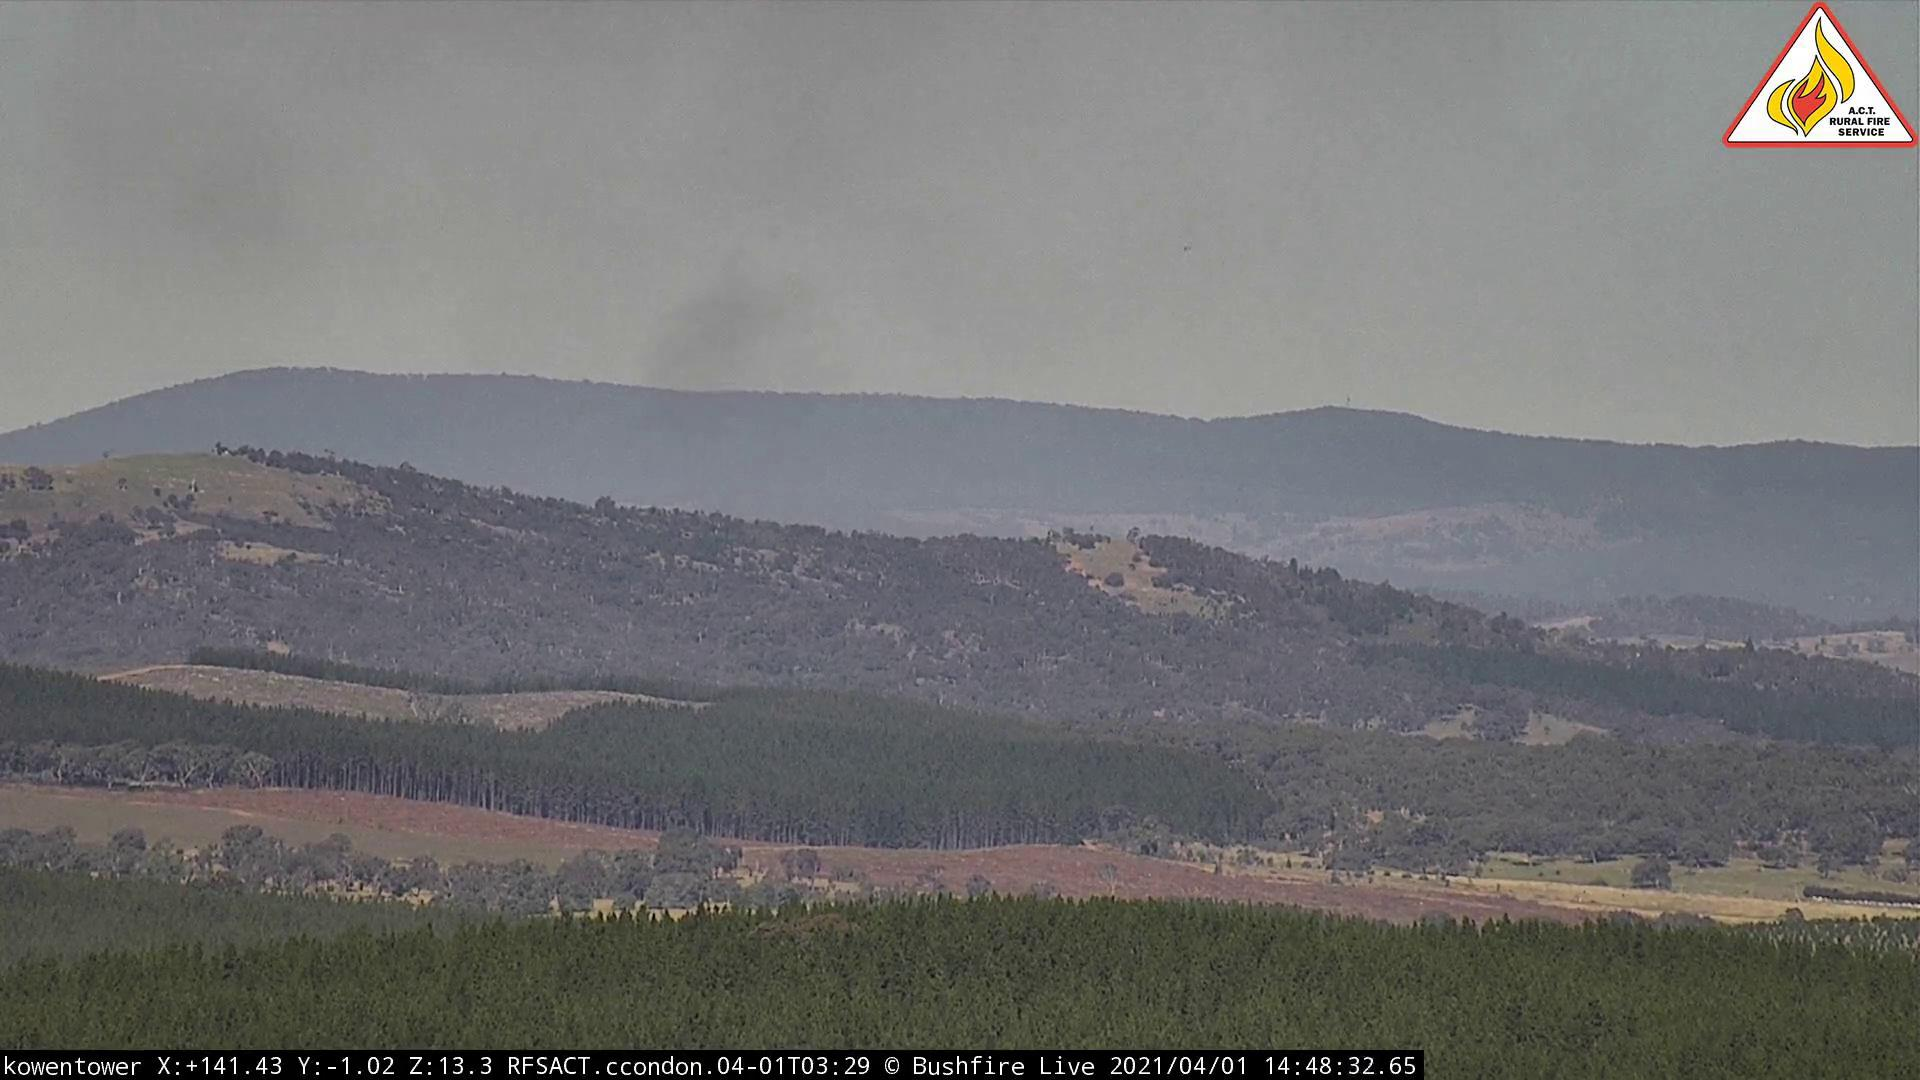instance_salient_object: (618, 252, 853, 484)
